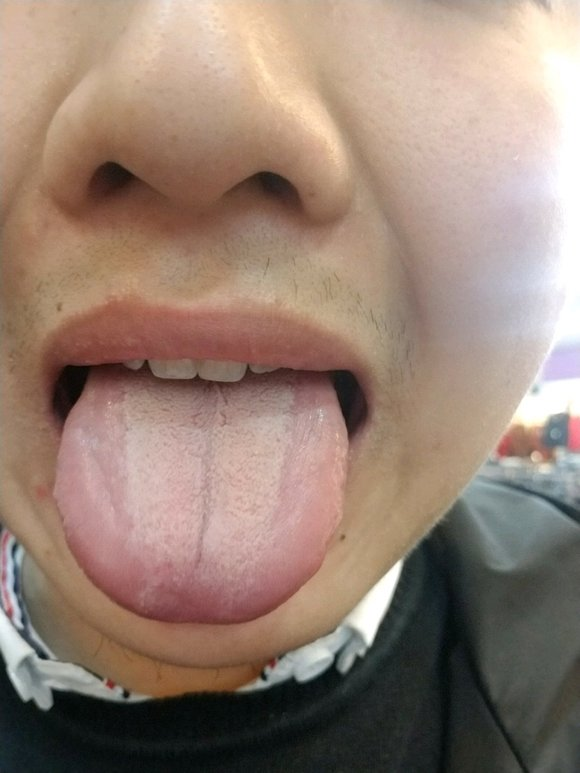baitaishe: (55, 367, 348, 622)
botaishe: (255, 382, 343, 559)
liewenshe: (187, 383, 215, 572)
